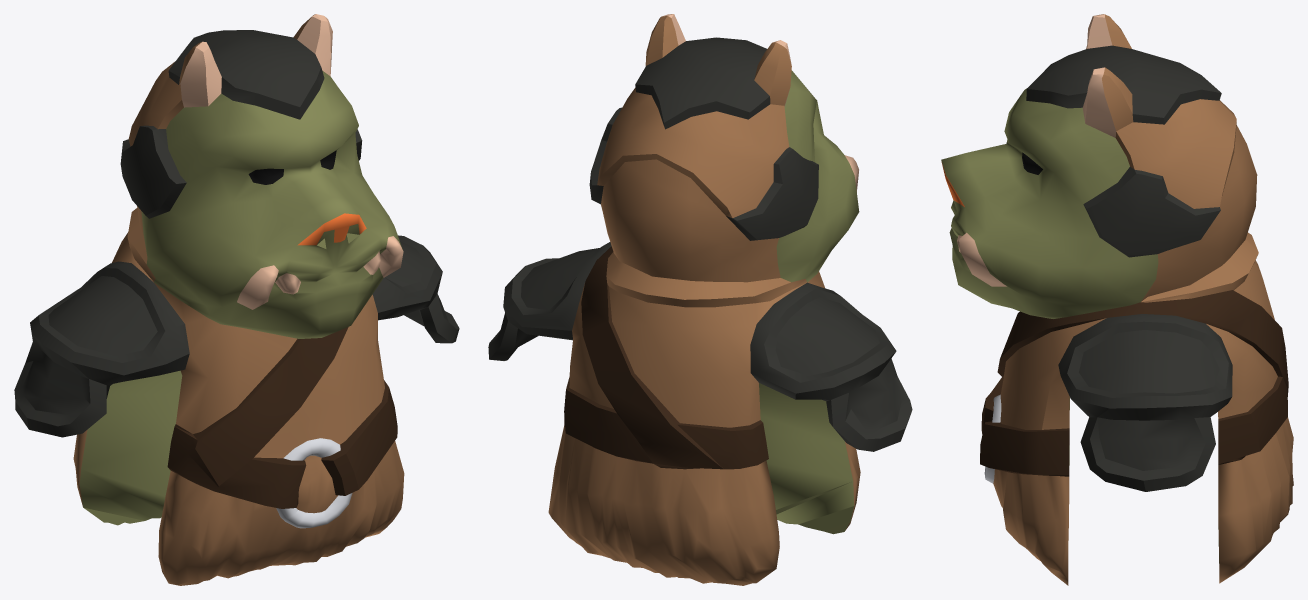
Rendered from Gamorrean Guard.gltf.
3 views of the same model, side by side, from view 1: azimuth 30°, elevation 25°; view 2: azimuth 150°, elevation 25°; view 3: azimuth 270°, elevation 25° (orthographic). The views are drawn at different scales.
Visible parts, largest first — view 1: Object; view 2: Object; view 3: Object.
Boxes of the visible parts, x1,y1,x2,y2 form: Object: [14, 14, 459, 585]; Object: [488, 14, 912, 585]; Object: [941, 14, 1293, 585].
Bounding box in the file's own units: 1.31 × 1.55 × 0.977.
